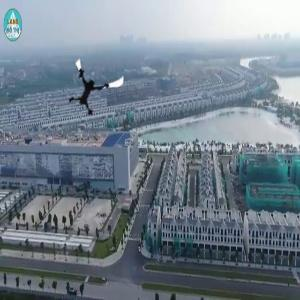drone: (61, 57, 121, 117)
